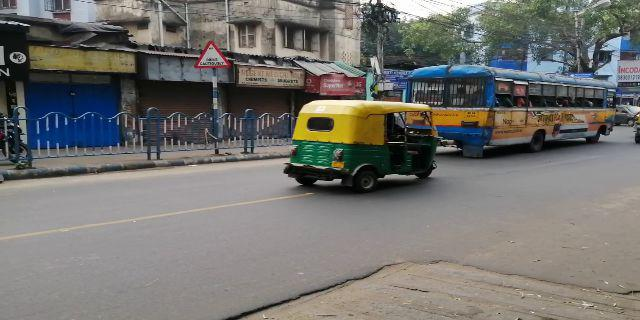Autorickshaw: (293, 102, 439, 183)
Bus: (406, 66, 618, 149)
